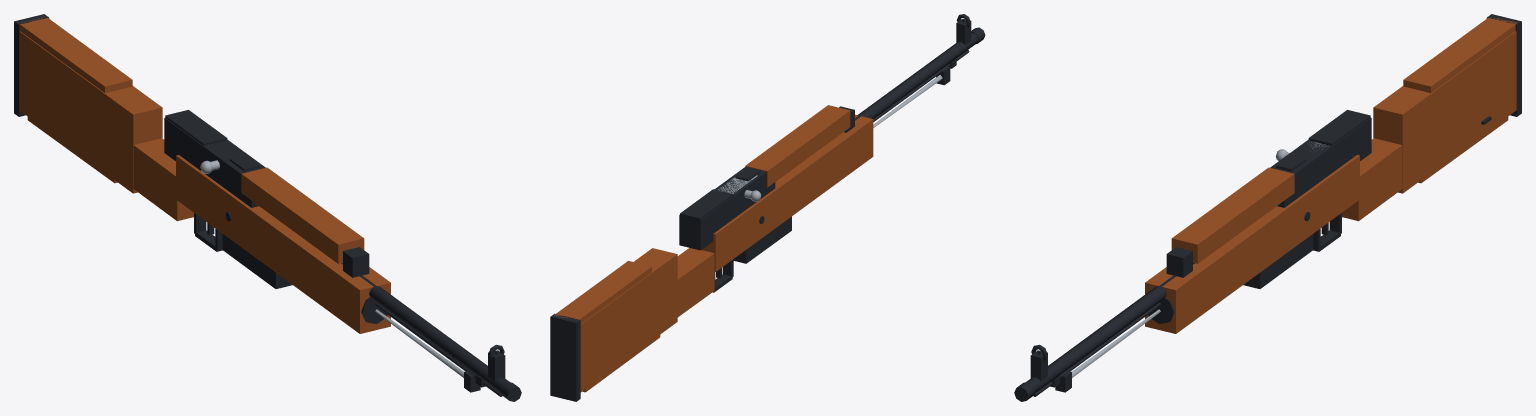
Rendered from sks.glb.
3 views of the same model, side by side, from view 1: azimuth 30°, elevation 25°; view 2: azimuth 150°, elevation 25°; view 3: azimuth 330°, elevation 25° (orthographic). The views are drawn at different scales.
Parts seen in each view (by area): view 1: Mesh_ButtstockMain, Mesh_ForendStock, Mesh_HandguardUpper, Mesh_ButtstockComb, Mesh_ReceiverMain, Mesh_GripWrist, Mesh_Barrel, Mesh_Magazine, Mesh_ReceiverCover, Mesh_Buttplate, Mesh_GasBlock, Mesh_BayonetSpike (+2 smaller); view 2: Mesh_ButtstockMain, Mesh_ForendStock, Mesh_HandguardUpper, Mesh_ReceiverMain, Mesh_Buttplate, Mesh_ButtstockComb, Mesh_GripWrist, Mesh_Barrel, Mesh_Magazine, Mesh_ReceiverCover; view 3: Mesh_ButtstockMain, Mesh_ForendStock, Mesh_HandguardUpper, Mesh_ButtstockComb, Mesh_ReceiverMain, Mesh_GripWrist, Mesh_Barrel, Mesh_Magazine, Mesh_ReceiverCover, Mesh_Buttplate, Mesh_GasBlock, Mesh_BayonetSpike (+2 smaller).
Part boxes in pixels (left/top/right/bottom): Mesh_ButtstockMain: left=19, top=31, right=162, bottom=193; Mesh_ForendStock: left=176, top=155, right=390, bottom=333; Mesh_HandguardUpper: left=241, top=167, right=364, bottom=263; Mesh_ButtstockComb: left=20, top=16, right=132, bottom=92; Mesh_ReceiverMain: left=164, top=118, right=265, bottom=207; Mesh_GripWrist: left=133, top=138, right=193, bottom=221; Mesh_Barrel: left=359, top=275, right=509, bottom=393; Mesh_Magazine: left=222, top=234, right=292, bottom=288; Mesh_ReceiverCover: left=165, top=110, right=227, bottom=145; Mesh_Buttplate: left=14, top=14, right=49, bottom=116; Mesh_GasBlock: left=343, top=247, right=369, bottom=277; Mesh_BayonetSpike: left=375, top=309, right=463, bottom=377; Mesh_ButtstockMain: left=580, top=248, right=677, bottom=392; Mesh_ForendStock: left=702, top=114, right=873, bottom=271; Mesh_HandguardUpper: left=745, top=105, right=850, bottom=187; Mesh_ReceiverMain: left=679, top=166, right=775, bottom=250; Mesh_Buttplate: left=550, top=313, right=580, bottom=401; Mesh_ButtstockComb: left=554, top=261, right=651, bottom=323; Mesh_GripWrist: left=677, top=248, right=714, bottom=317; Mesh_Barrel: left=855, top=33, right=978, bottom=120; Mesh_Magazine: left=733, top=216, right=791, bottom=263; Mesh_ReceiverCover: left=680, top=189, right=733, bottom=228; Mesh_ButtstockMain: left=1373, top=31, right=1516, bottom=193; Mesh_ForendStock: left=1145, top=155, right=1359, bottom=333; Mesh_HandguardUpper: left=1171, top=167, right=1294, bottom=263; Mesh_ButtstockComb: left=1403, top=17, right=1516, bottom=92; Mesh_ReceiverMain: left=1270, top=118, right=1371, bottom=207; Mesh_GripWrist: left=1342, top=138, right=1402, bottom=221; Mesh_Barrel: left=1026, top=275, right=1176, bottom=393; Mesh_Magazine: left=1243, top=234, right=1313, bottom=288; Mesh_ReceiverCover: left=1308, top=110, right=1370, bottom=145; Mesh_Buttplate: left=1486, top=14, right=1521, bottom=116; Mesh_GasBlock: left=1166, top=247, right=1192, bottom=277; Mesh_BayonetSpike: left=1072, top=309, right=1160, bottom=377.
Size of the model in its own units: 0.056 by 0.122 by 1.
